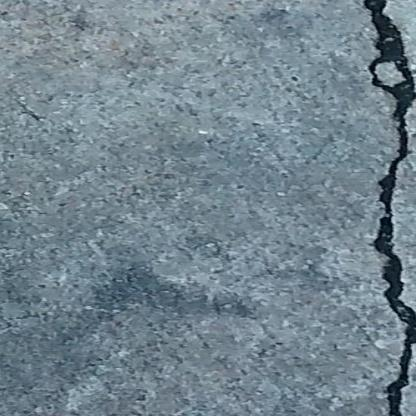Cracks: (348, 0, 416, 416)
